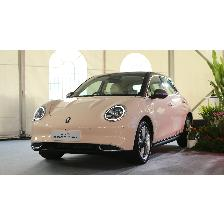EV: (32, 68, 195, 166)
